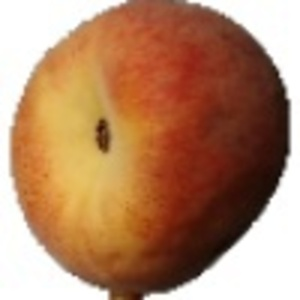pêssego: (7, 1, 292, 300)
